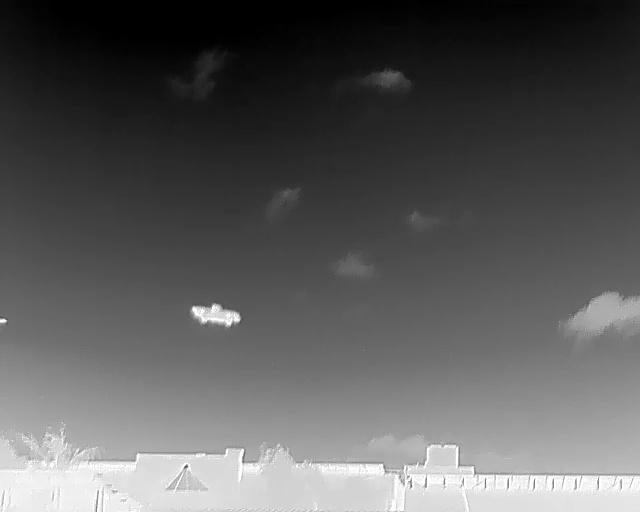fpv-drone: (190, 304, 241, 327)
